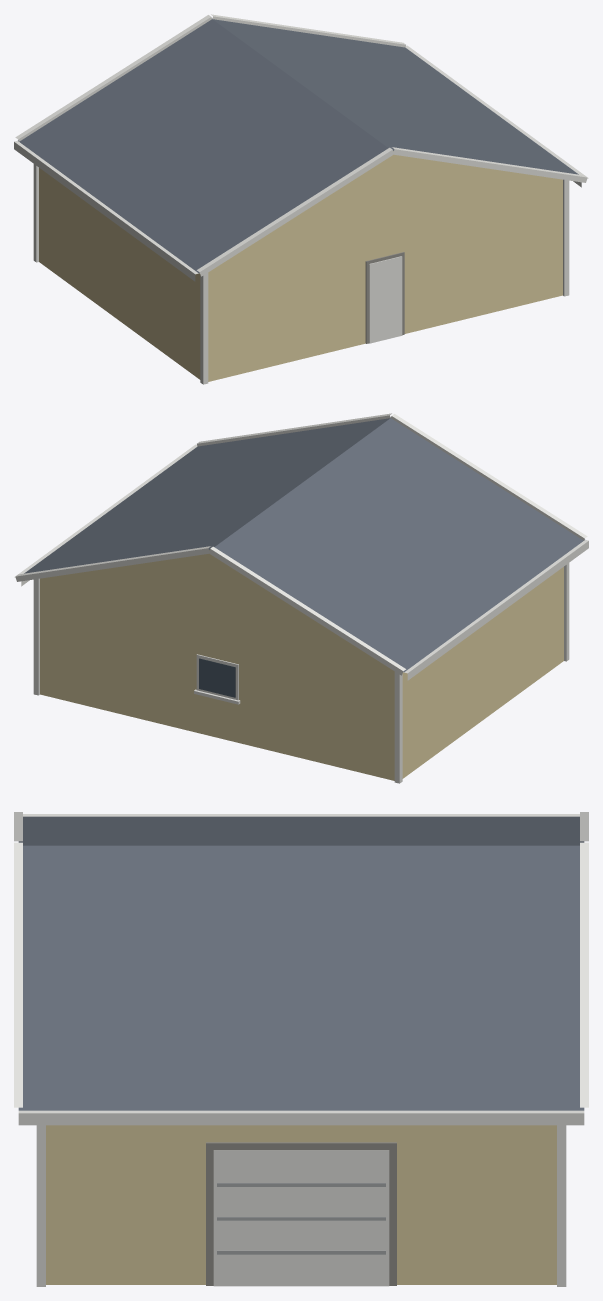
Rendered from h28_port_cbsa_shed2.gltf.
3 renders of one model, top to bottom at view 1: azimuth 30°, elevation 25°; view 2: azimuth 150°, elevation 25°; view 3: azimuth 270°, elevation 25°, orthographic. The views are drawn at different scales.
Parts seen in each view (by area): view 1: h28_port_cbsa_shed2; view 2: h28_port_cbsa_shed2; view 3: h28_port_cbsa_shed2.
Boxes of the visible parts, x1,y1,x2,y2 form: h28_port_cbsa_shed2: [14, 14, 588, 384]; h28_port_cbsa_shed2: [14, 413, 588, 783]; h28_port_cbsa_shed2: [14, 812, 588, 1286].
Bounding box in the file's own units: 10.9 × 5.19 × 8.84.
